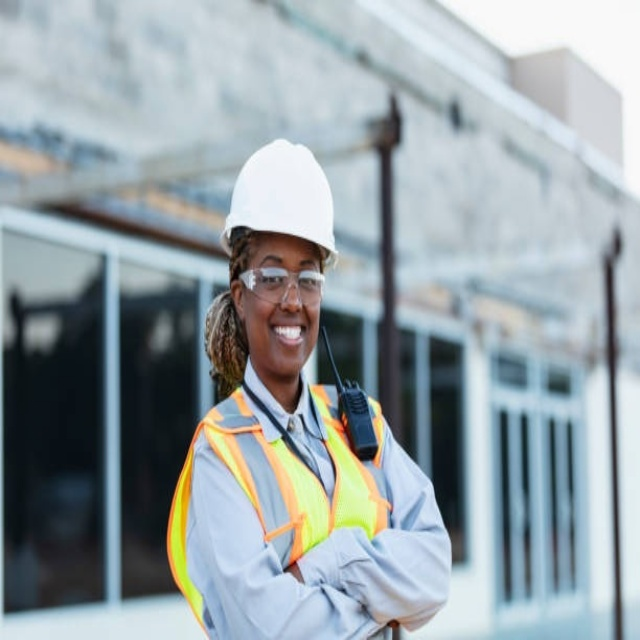Gafas: (239, 267, 329, 305)
Sin_mascara: (267, 312, 310, 361)
